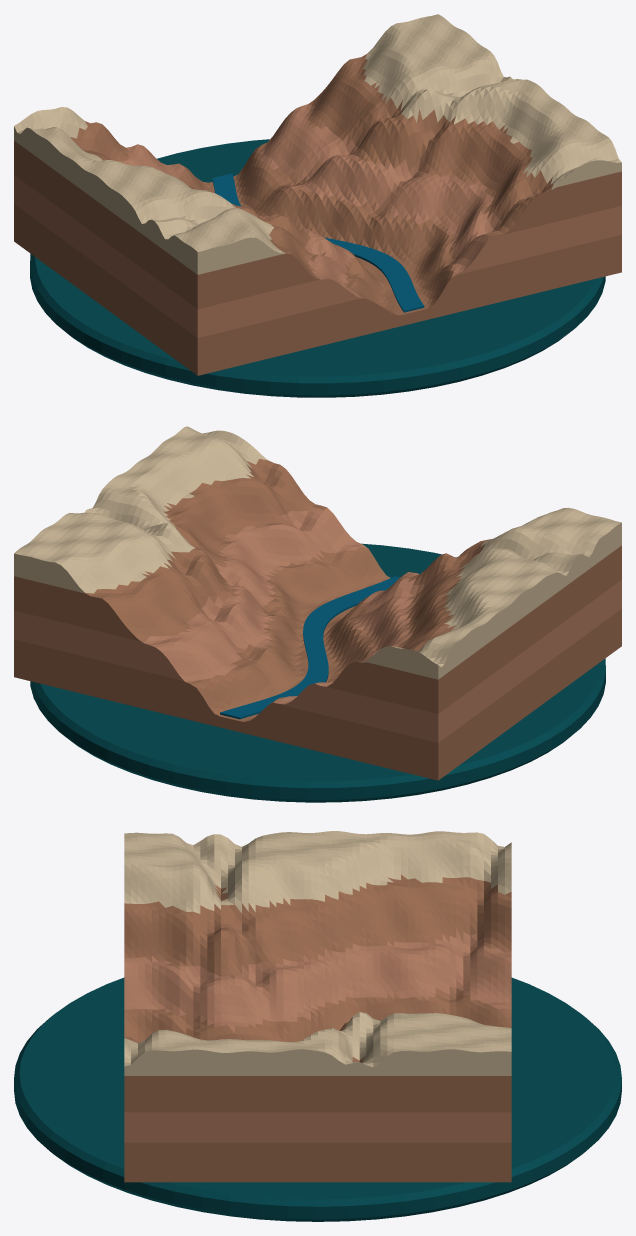
Rendered from grand-canyon.glb.
3 views of the same model, one above another, from view 1: azimuth 30°, elevation 25°; view 2: azimuth 150°, elevation 25°; view 3: azimuth 270°, elevation 25° (orthographic). The views are drawn at different scales.
Parts seen in each view (by area): view 1: body, pedestal; view 2: body, pedestal; view 3: body, pedestal.
Part boxes in pixels (x1,y1,x2,y2): body: [14, 14, 621, 375]; pedestal: [30, 139, 605, 397]; body: [14, 426, 621, 780]; pedestal: [30, 543, 605, 802]; body: [124, 831, 511, 1182]; pedestal: [14, 977, 621, 1221].
Bounding box in the file's own units: 4.4 × 1.24 × 4.4.
